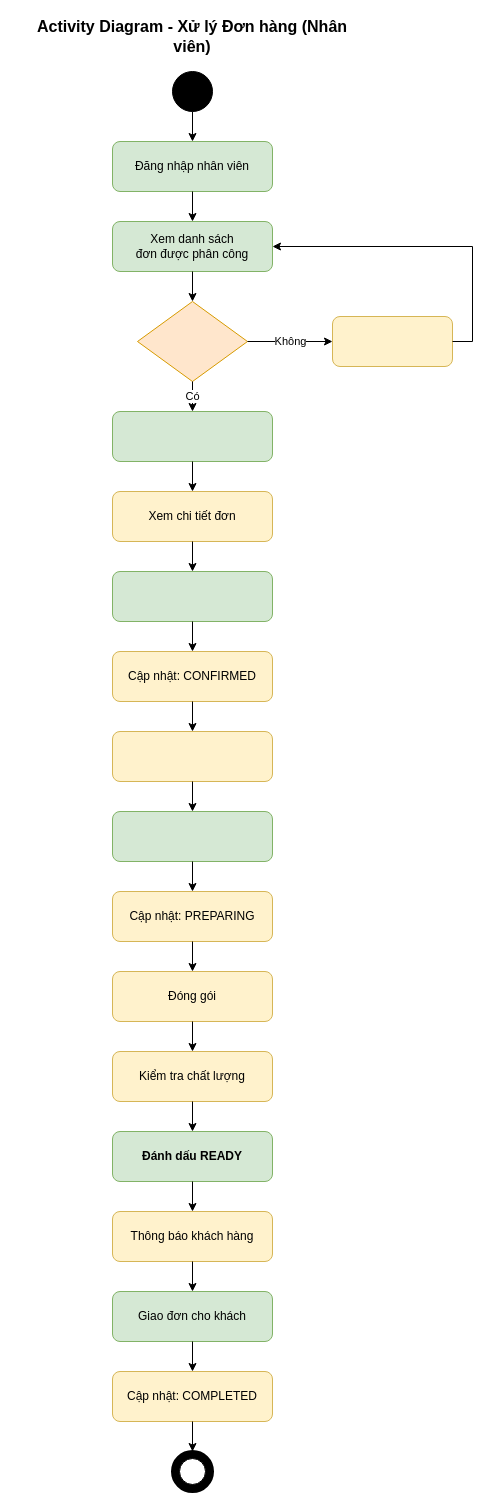
Some shapes in this 498 by 1510 pixel diagram are drawn without their labels. Each missing label, with the centre of its shape:
"Chuẩn bị bánh" belongs at (192,836).
"Chọn đơn để nhận" belongs at (192,436).
"Có đơn chờ xử lý?" belongs at (192,341).
"Kiểm tra nguyên liệu" belongs at (192,756).
"Nhận đơn" belongs at (192,596).
"Đợi đơn mới" belongs at (392,341).
